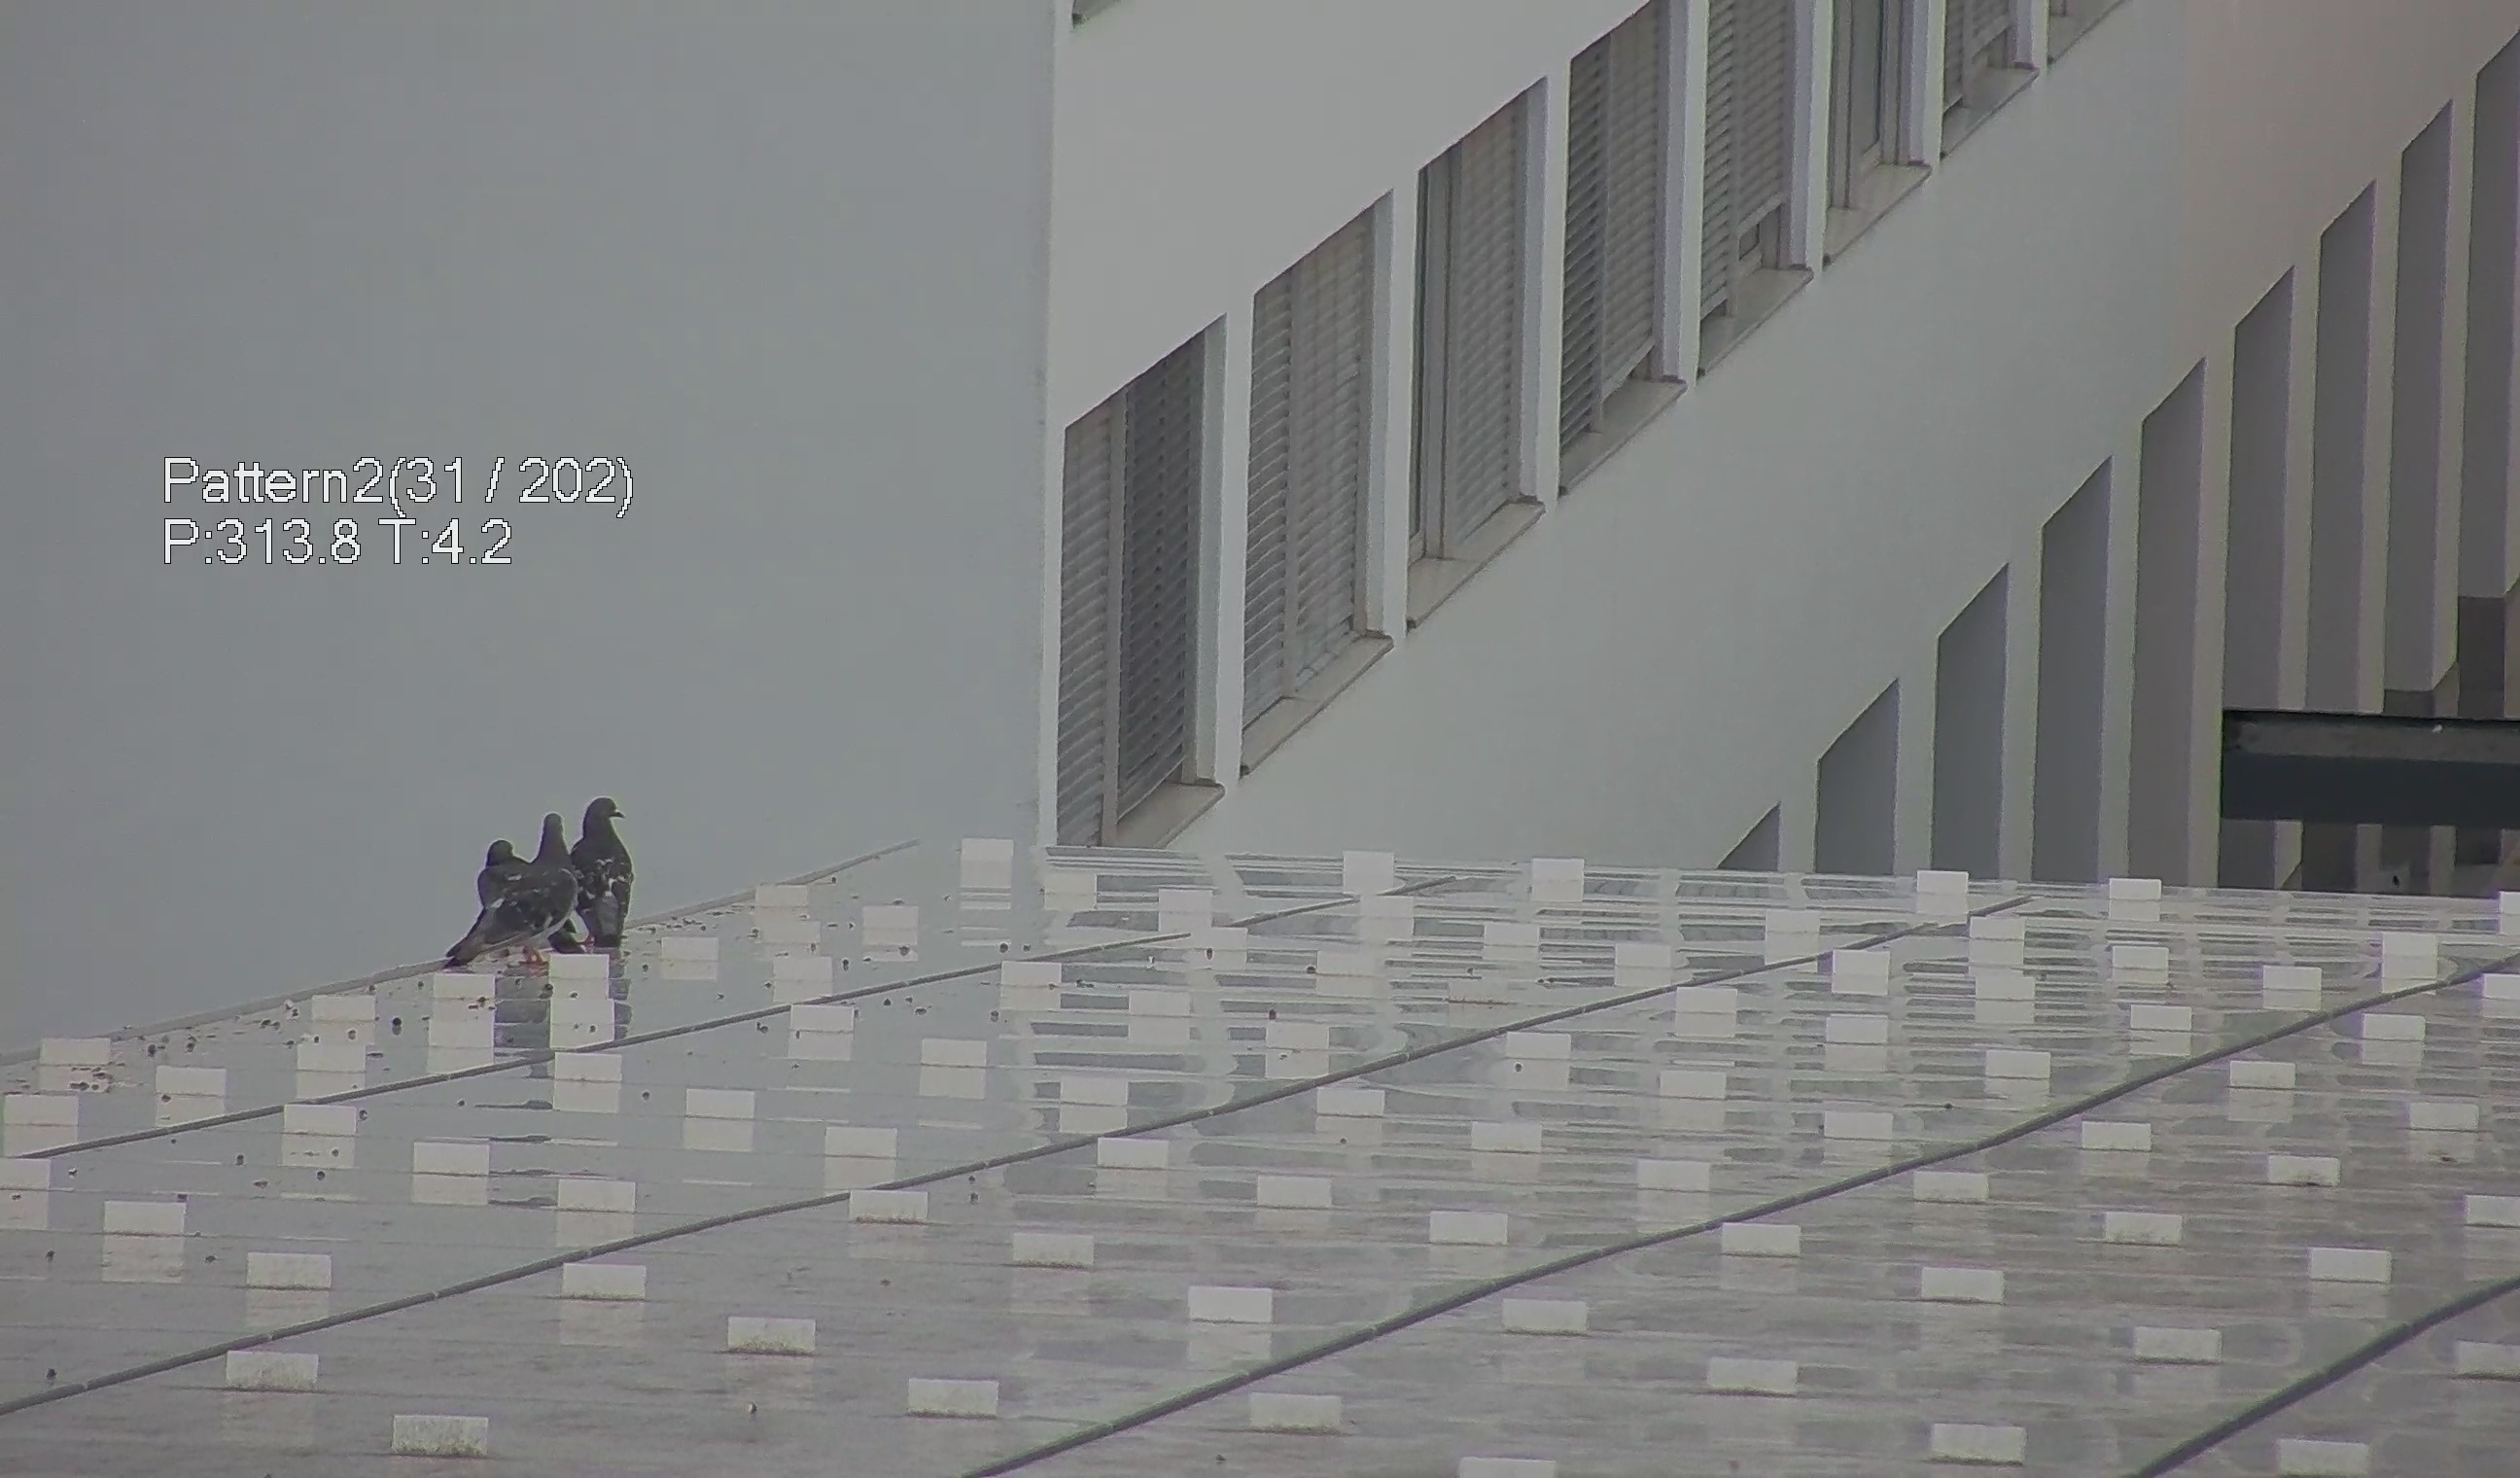Pigeon: (440, 815, 582, 987), (559, 792, 642, 948), (466, 834, 535, 897)
